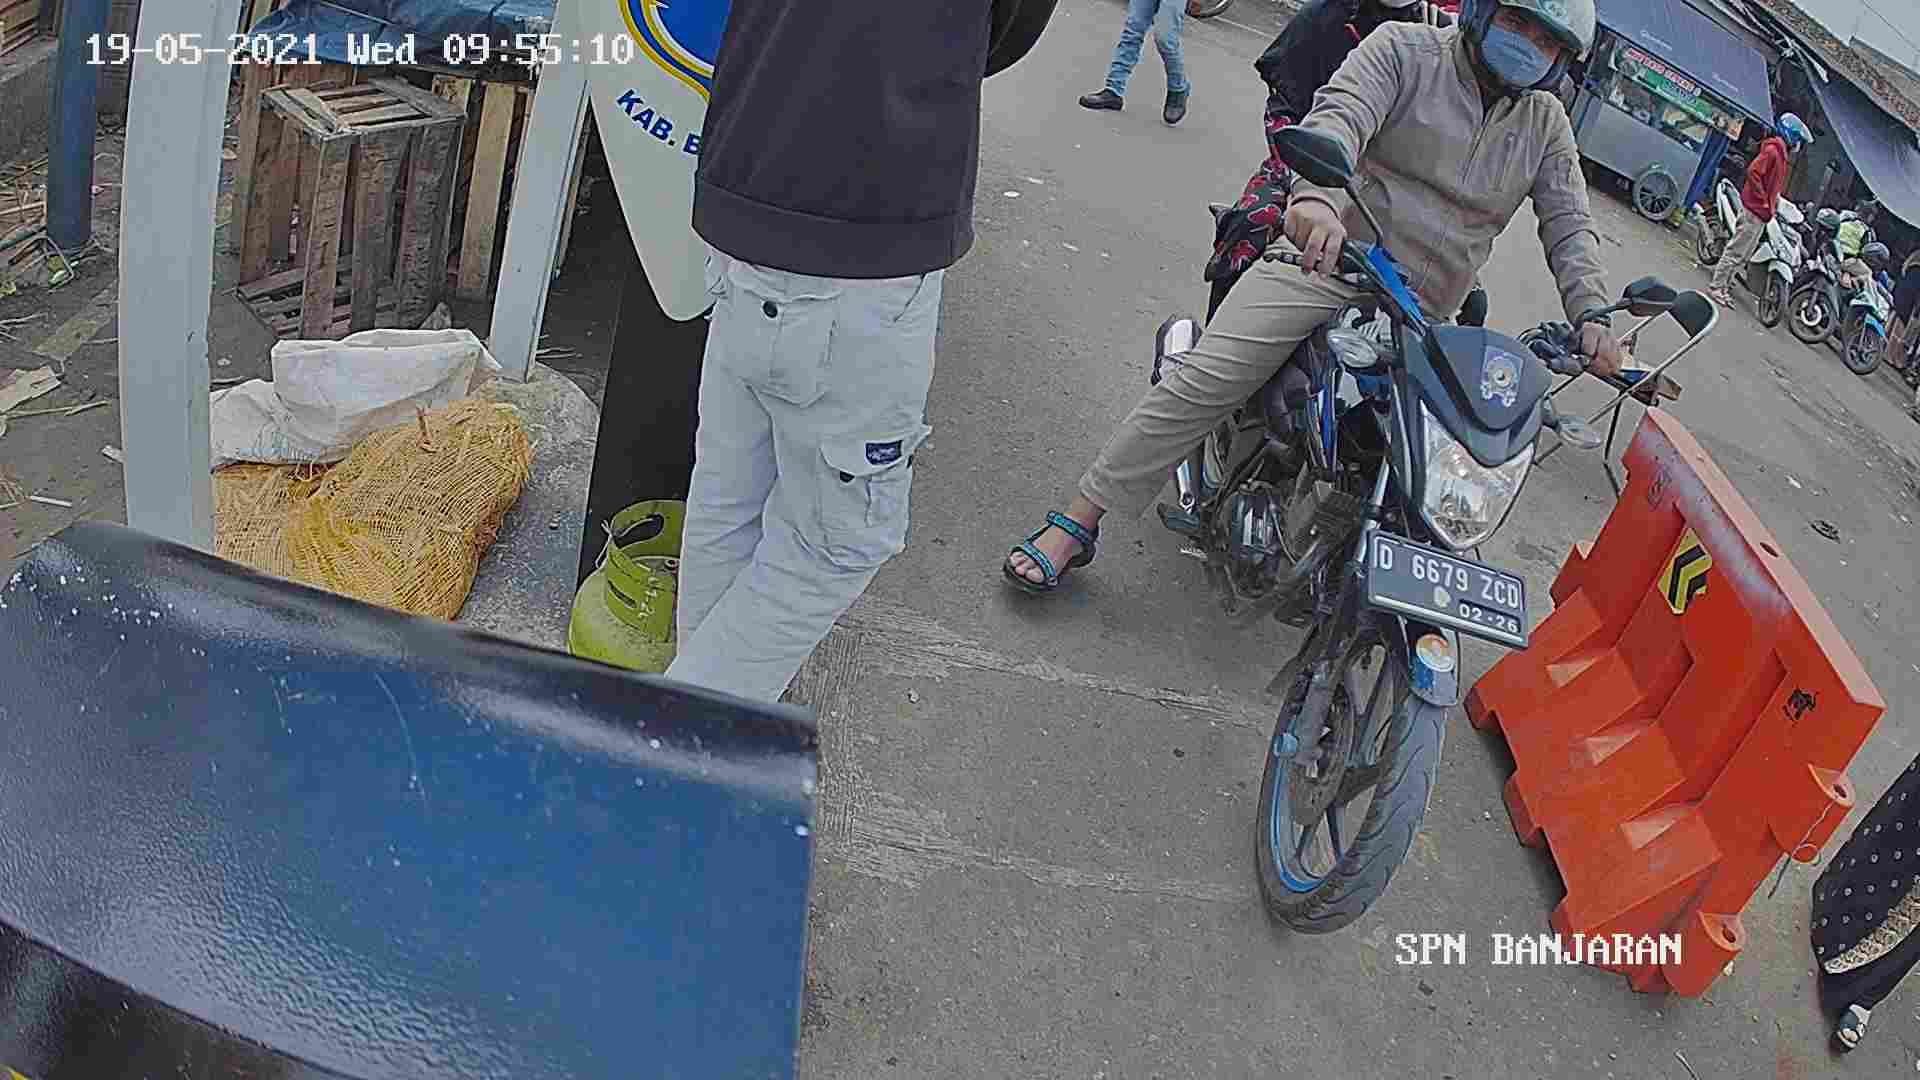motor: (1133, 220, 1551, 934)
